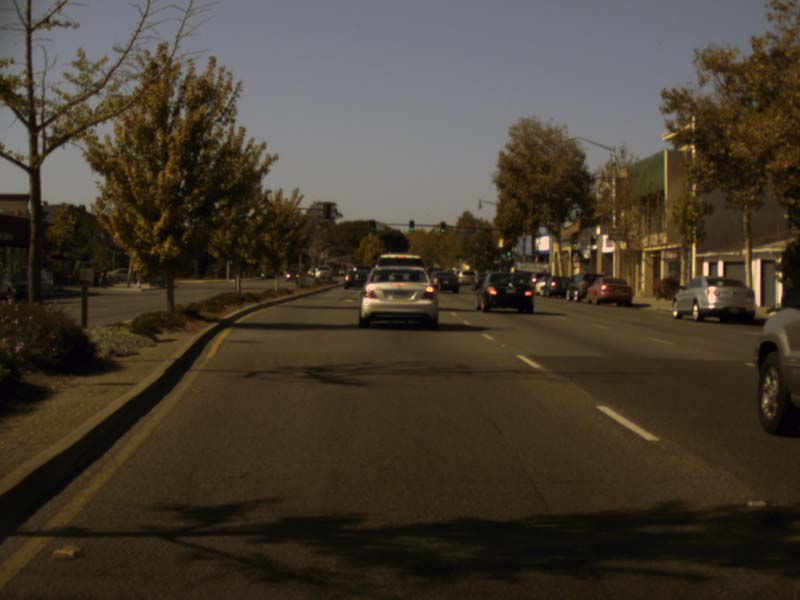Green: (408, 220, 414, 232), (369, 220, 375, 232), (440, 221, 445, 233), (501, 251, 506, 262), (507, 250, 511, 261)
